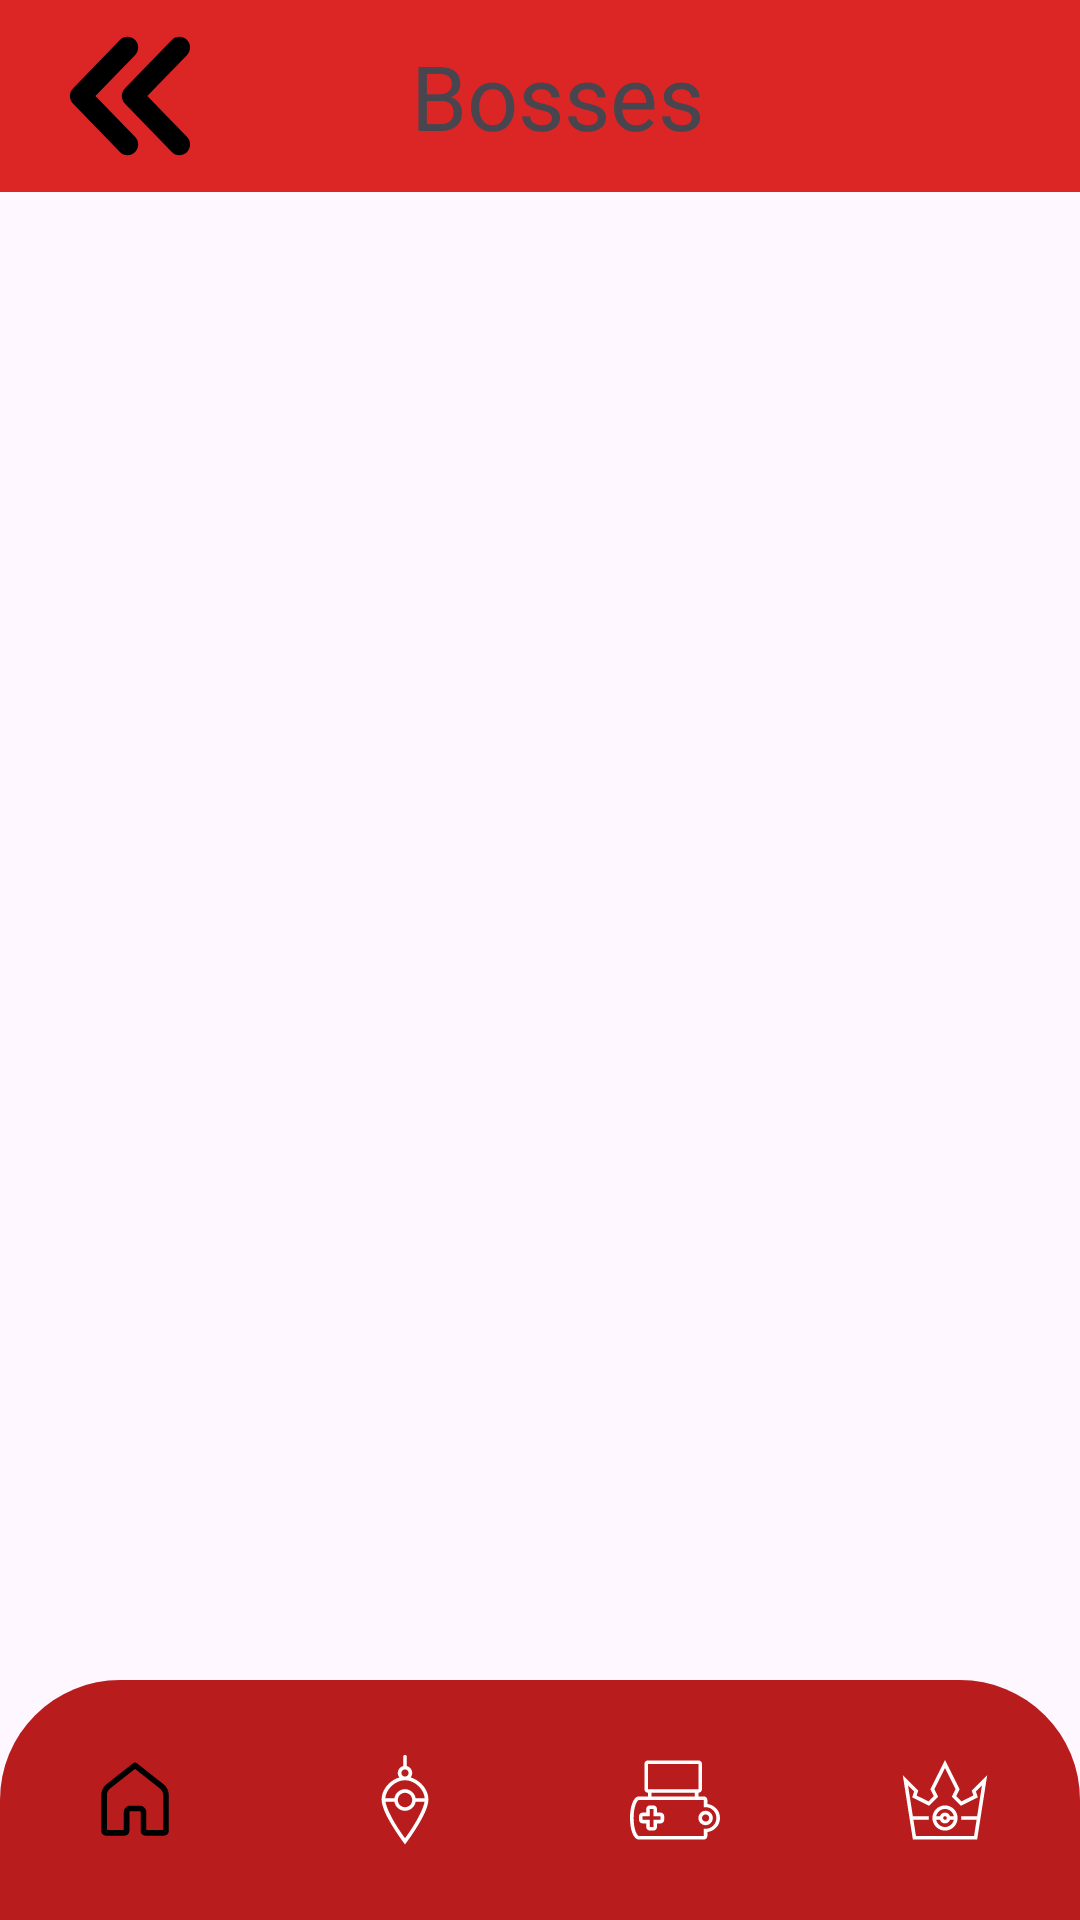

Icon click points for this 1080*1920 phone screenshot, format (x=x, y=y):
returnback: (x=130, y=96)
